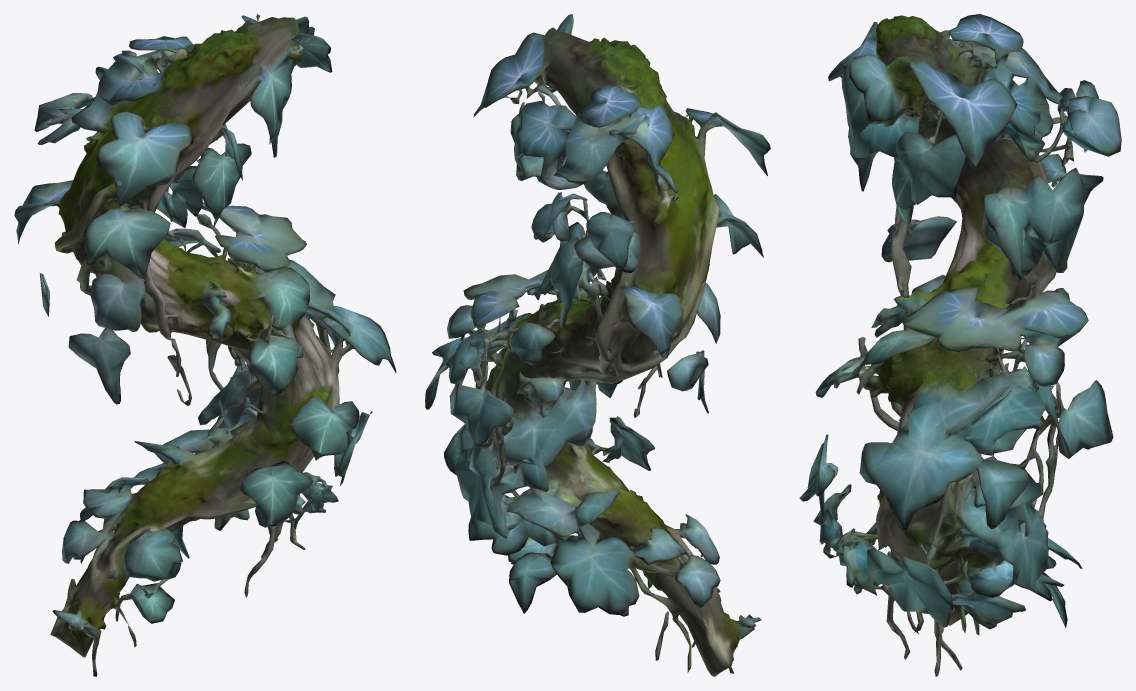
The model's file is ivy_vine_glow.glb.
3 renders of one model, left to right at view 1: azimuth 30°, elevation 25°; view 2: azimuth 150°, elevation 25°; view 3: azimuth 270°, elevation 25°, orthographic. The views are drawn at different scales.
Bounding box in the file's own units: 1.13 × 2 × 0.8582.
1 material, 1 textured.
